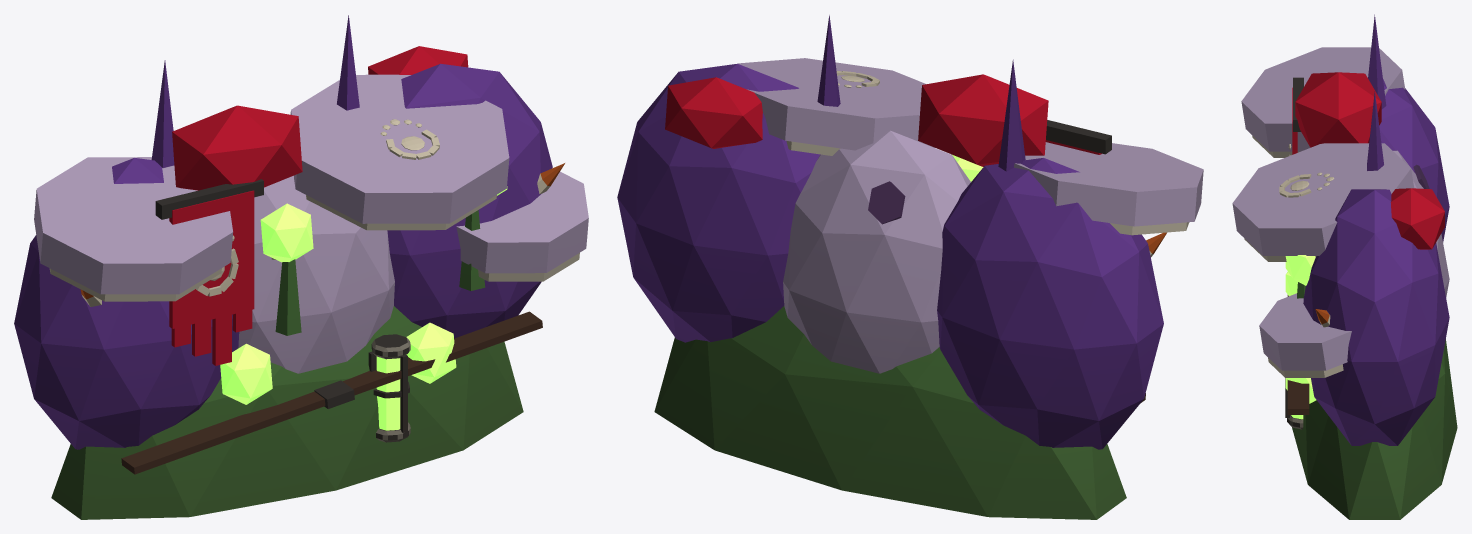
The model's file is sb_wall.glb.
The picture shows the model from 3 angles, left to right: view 1: azimuth 30°, elevation 25°; view 2: azimuth 150°, elevation 25°; view 3: azimuth 270°, elevation 25°; orthographic projection. The views are drawn at different scales.
Visible parts, largest first — view 1: sb_wall; view 2: sb_wall; view 3: sb_wall.
Part boxes in pixels (<box>): sb_wall: <box>14,15,588,519</box>; sb_wall: <box>617,15,1203,519</box>; sb_wall: <box>1232,14,1457,519</box>.
Bounding box in the file's own units: 2.2 × 1.66 × 0.9304.
